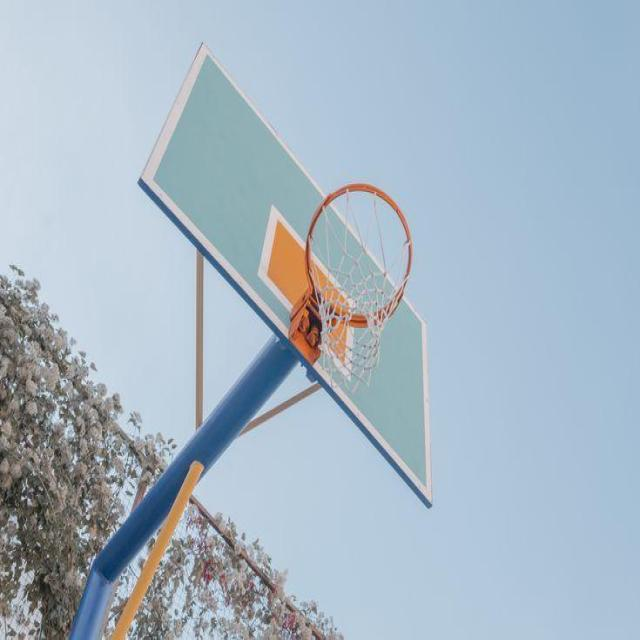hoop: (295, 183, 428, 402)
